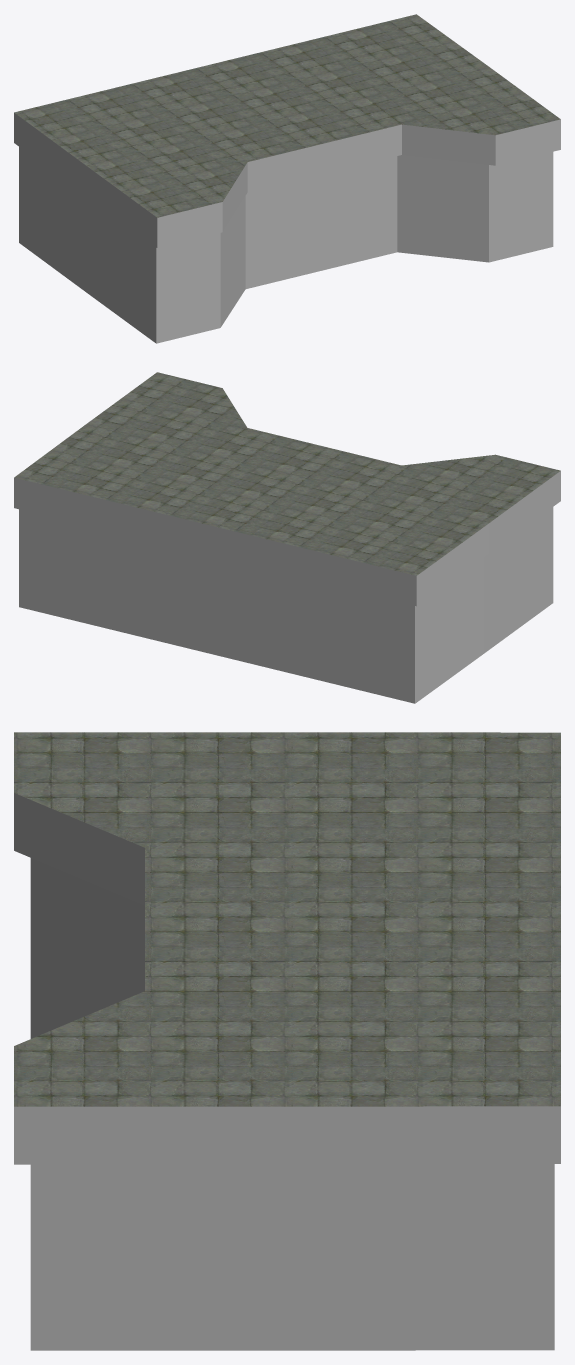
Rendered from environment_Building_shitai_008_c.FBX.
The picture shows the model from 3 angles, top to bottom: view 1: azimuth 30°, elevation 25°; view 2: azimuth 150°, elevation 25°; view 3: azimuth 270°, elevation 25°; orthographic projection. The views are drawn at different scales.
Parts seen in each view (by area): view 1: environment_Building_shitai_008_c03, environment_Building_shitai_008_c01, environment_Building_shitai_008_c02; view 2: environment_Building_shitai_008_c03, environment_Building_shitai_008_c01, environment_Building_shitai_008_c02; view 3: environment_Building_shitai_008_c01, environment_Building_shitai_008_c03, environment_Building_shitai_008_c02.
Part boxes in pixels (x1,y1,x2,y2): environment_Building_shitai_008_c03: [19, 147, 553, 343]; environment_Building_shitai_008_c01: [14, 14, 560, 217]; environment_Building_shitai_008_c02: [14, 113, 560, 248]; environment_Building_shitai_008_c03: [19, 507, 553, 703]; environment_Building_shitai_008_c01: [14, 372, 560, 575]; environment_Building_shitai_008_c02: [14, 471, 560, 606]; environment_Building_shitai_008_c01: [14, 732, 560, 1106]; environment_Building_shitai_008_c03: [30, 858, 554, 1350]; environment_Building_shitai_008_c02: [14, 793, 560, 1164].
Bounding box in the file's own units: 2779 × 855 × 1715.
